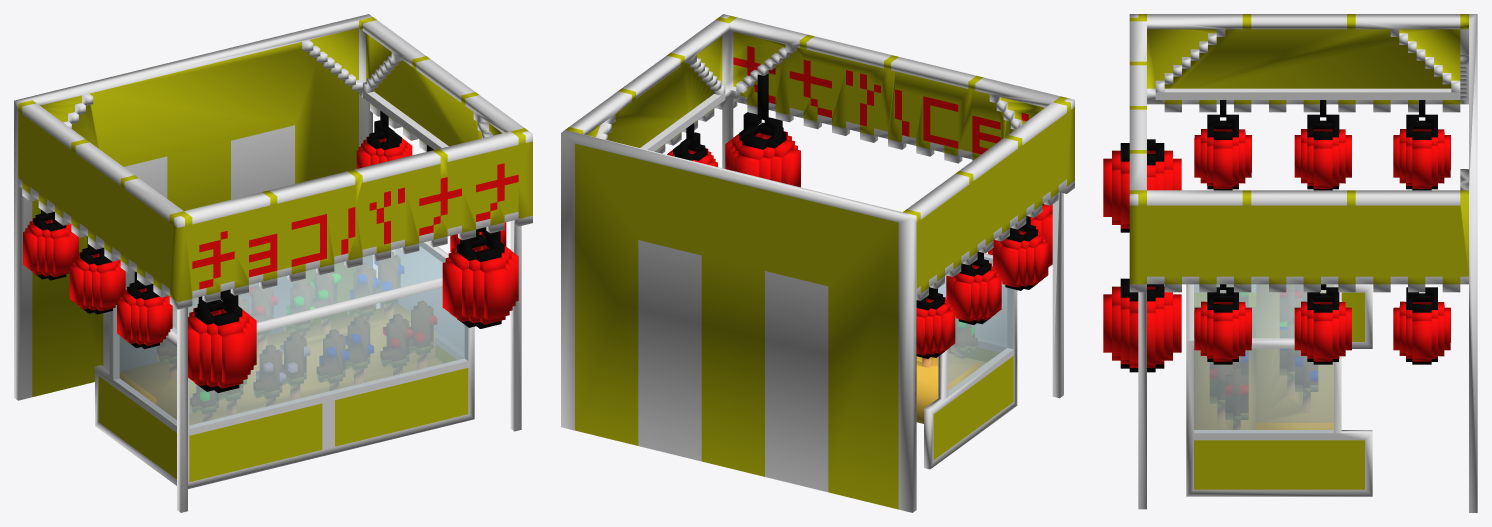
File: FoodStalls3.fbx
The picture shows the model from 3 angles, left to right: view 1: azimuth 30°, elevation 25°; view 2: azimuth 150°, elevation 25°; view 3: azimuth 270°, elevation 25°; orthographic projection. The views are drawn at different scales.
Parts seen in each view (by area): view 1: ObjObject.003, ObjObject.002, ObjObject, ObjObject.007, ObjObject.001, ObjObject.004, ObjObject.006, ObjObject.005, ObjObject.009; view 2: ObjObject.003, ObjObject.002, ObjObject.007, ObjObject.004, ObjObject.006, ObjObject, ObjObject.005, ObjObject.008, ObjObject.001; view 3: ObjObject.003, ObjObject.002, ObjObject, ObjObject.007, ObjObject.006, ObjObject.005, ObjObject.004, ObjObject.010, ObjObject.008, ObjObject.009, ObjObject.001.
Part boxes in pixels (left/top/right/bottom): ObjObject.003: left=14, top=14, right=532, bottom=512; ObjObject.002: left=95, top=241, right=474, bottom=488; ObjObject: left=119, top=251, right=443, bottom=424; ObjObject.007: left=442, top=227, right=518, bottom=328; ObjObject.001: left=188, top=289, right=256, bottom=392; ObjObject.004: left=117, top=272, right=172, bottom=348; ObjObject.006: left=69, top=237, right=125, bottom=314; ObjObject.005: left=23, top=209, right=78, bottom=280; ObjObject.009: left=356, top=110, right=412, bottom=168; ObjObject.003: left=561, top=14, right=1074, bottom=512; ObjObject.002: left=924, top=253, right=1017, bottom=469; ObjObject.007: left=725, top=73, right=800, bottom=187; ObjObject.004: left=993, top=216, right=1048, bottom=290; ObjObject.006: left=946, top=251, right=1001, bottom=324; ObjObject: left=916, top=319, right=985, bottom=423; ObjObject.005: left=916, top=287, right=955, bottom=358; ObjObject.008: left=667, top=123, right=717, bottom=166; ObjObject.001: left=988, top=204, right=1052, bottom=267; ObjObject.003: left=1129, top=14, right=1477, bottom=512; ObjObject.002: left=1186, top=284, right=1372, bottom=496; ObjObject: left=1194, top=284, right=1333, bottom=429; ObjObject.007: left=1103, top=278, right=1181, bottom=372; ObjObject.006: left=1294, top=100, right=1351, bottom=190; ObjObject.005: left=1393, top=100, right=1450, bottom=190; ObjObject.004: left=1194, top=100, right=1251, bottom=190; ObjObject.010: left=1294, top=284, right=1351, bottom=364; ObjObject.008: left=1194, top=284, right=1251, bottom=364; ObjObject.009: left=1393, top=287, right=1450, bottom=364; ObjObject.001: left=1103, top=139, right=1181, bottom=232.
Bounding box in the file's own units: 536 × 400 × 430.
